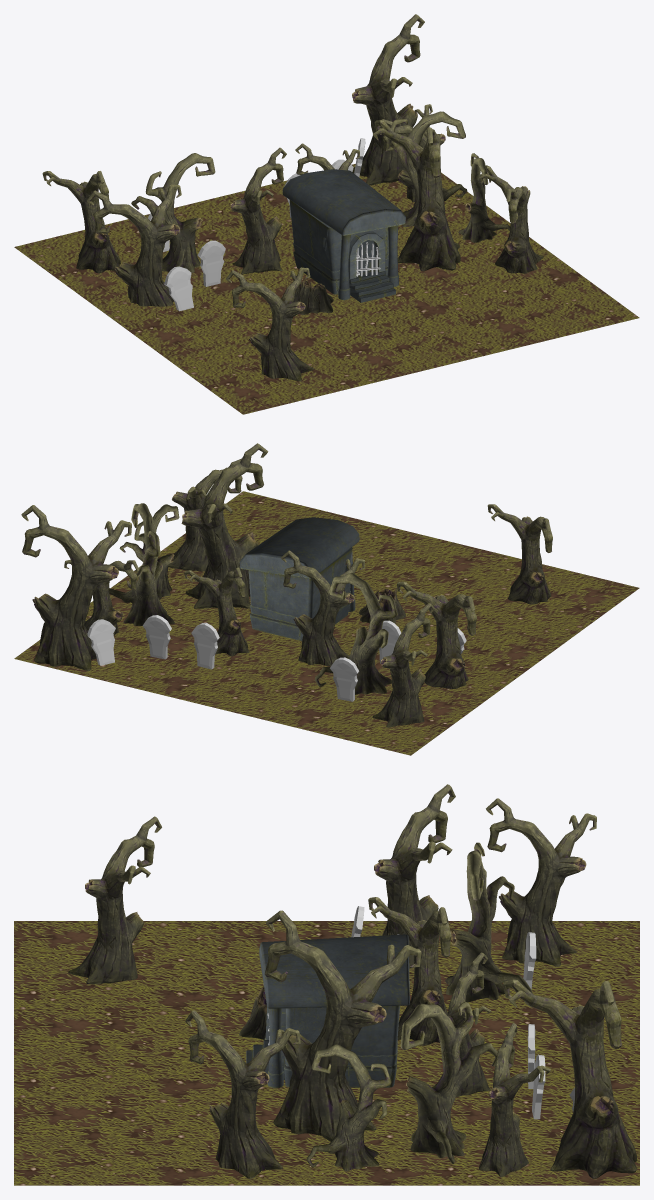
The model's file is Edge_Diorama_9.fbx.
The picture shows the model from 3 angles, top to bottom: view 1: azimuth 30°, elevation 25°; view 2: azimuth 150°, elevation 25°; view 3: azimuth 270°, elevation 25°; orthographic projection. The views are drawn at different scales.
Parts seen in each view (by area): view 1: Floor032; view 2: Floor032; view 3: Floor032.
Part boxes in pixels (x1=…): Floor032: x1=14, y1=14, x2=639, y2=414; Floor032: x1=14, y1=443, x2=639, y2=755; Floor032: x1=14, y1=784, x2=639, y2=1185.
Size of the model in its own units: 454 by 177 by 450.
